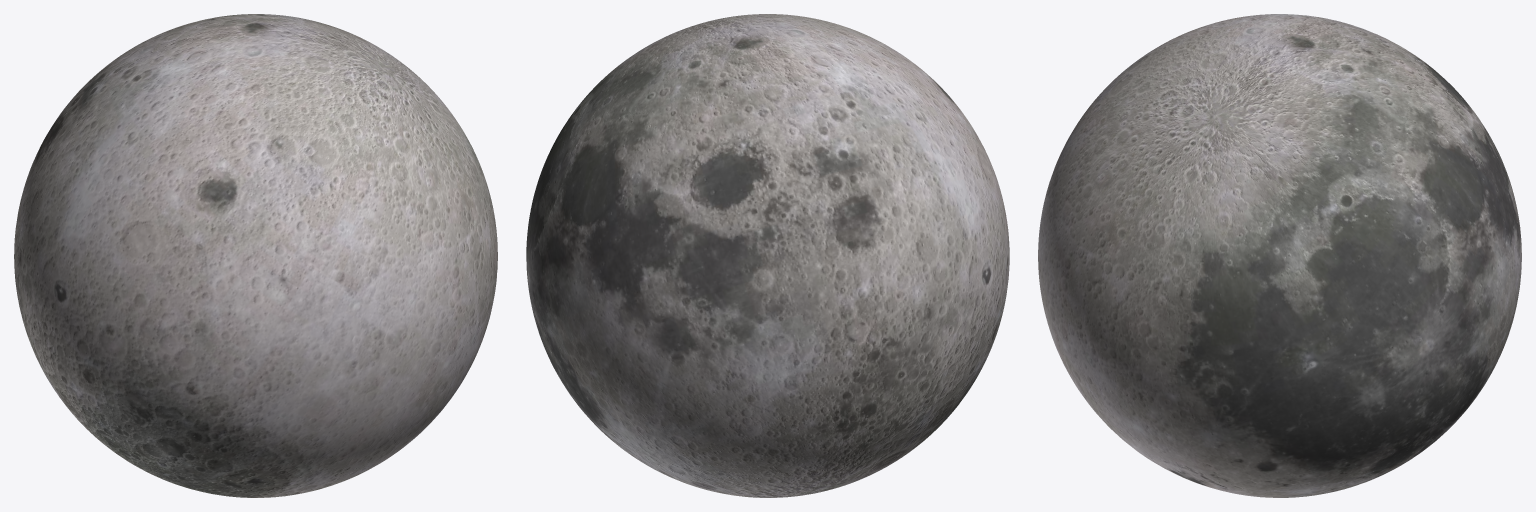
File: moon.glb
3 renders of one model, left to right at view 1: azimuth 30°, elevation 25°; view 2: azimuth 150°, elevation 25°; view 3: azimuth 270°, elevation 25°, orthographic.
Visible parts, largest first — view 1: moon; view 2: moon; view 3: moon.
Part boxes in pixels (x1,y1,x2,y2): moon: (14, 14, 497, 497); moon: (526, 14, 1009, 497); moon: (1038, 14, 1521, 497).
Bounding box in the file's own units: 2 × 2 × 2.
Materials: 1 (1 with a texture image).
